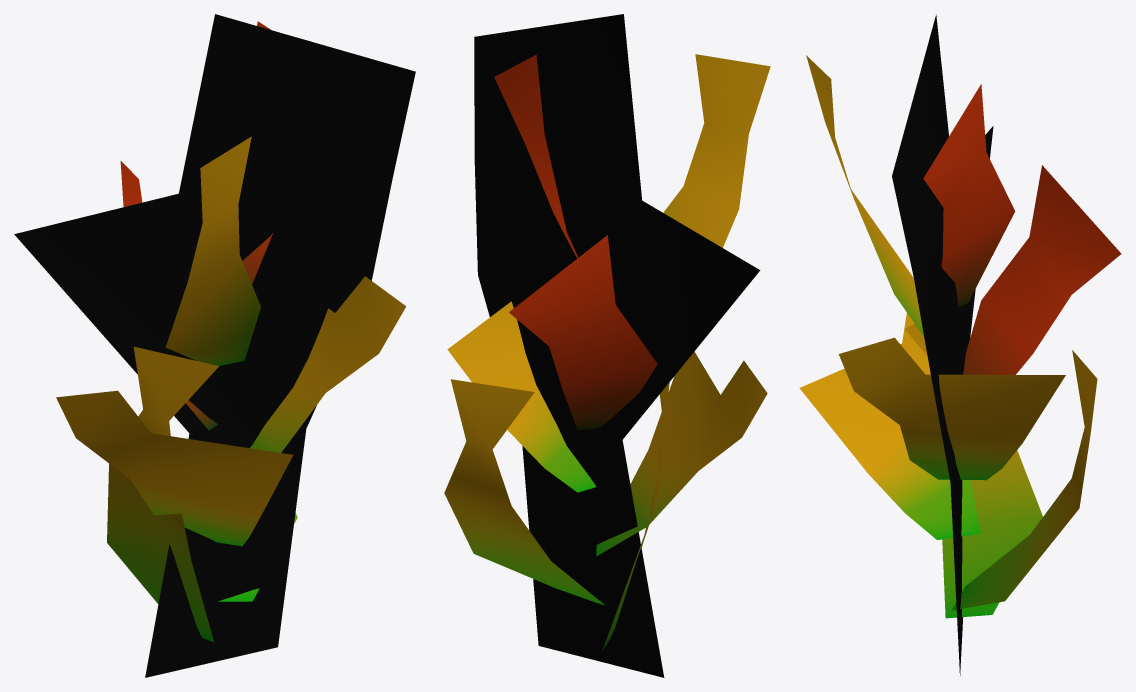
The model's file is Var4Hi51.fbx.
3 renders of one model, left to right at view 1: azimuth 30°, elevation 25°; view 2: azimuth 150°, elevation 25°; view 3: azimuth 270°, elevation 25°, orthographic. The views are drawn at different scales.
Visible parts, largest first — view 1: bend1; view 2: bend1; view 3: bend1.
Boxes of the visible parts, x1,y1,x2,y2 form: bend1: [14, 14, 415, 677]; bend1: [444, 14, 770, 677]; bend1: [799, 14, 1121, 675].
Size of the model in its own units: 1.28 by 2.33 by 1.08.
